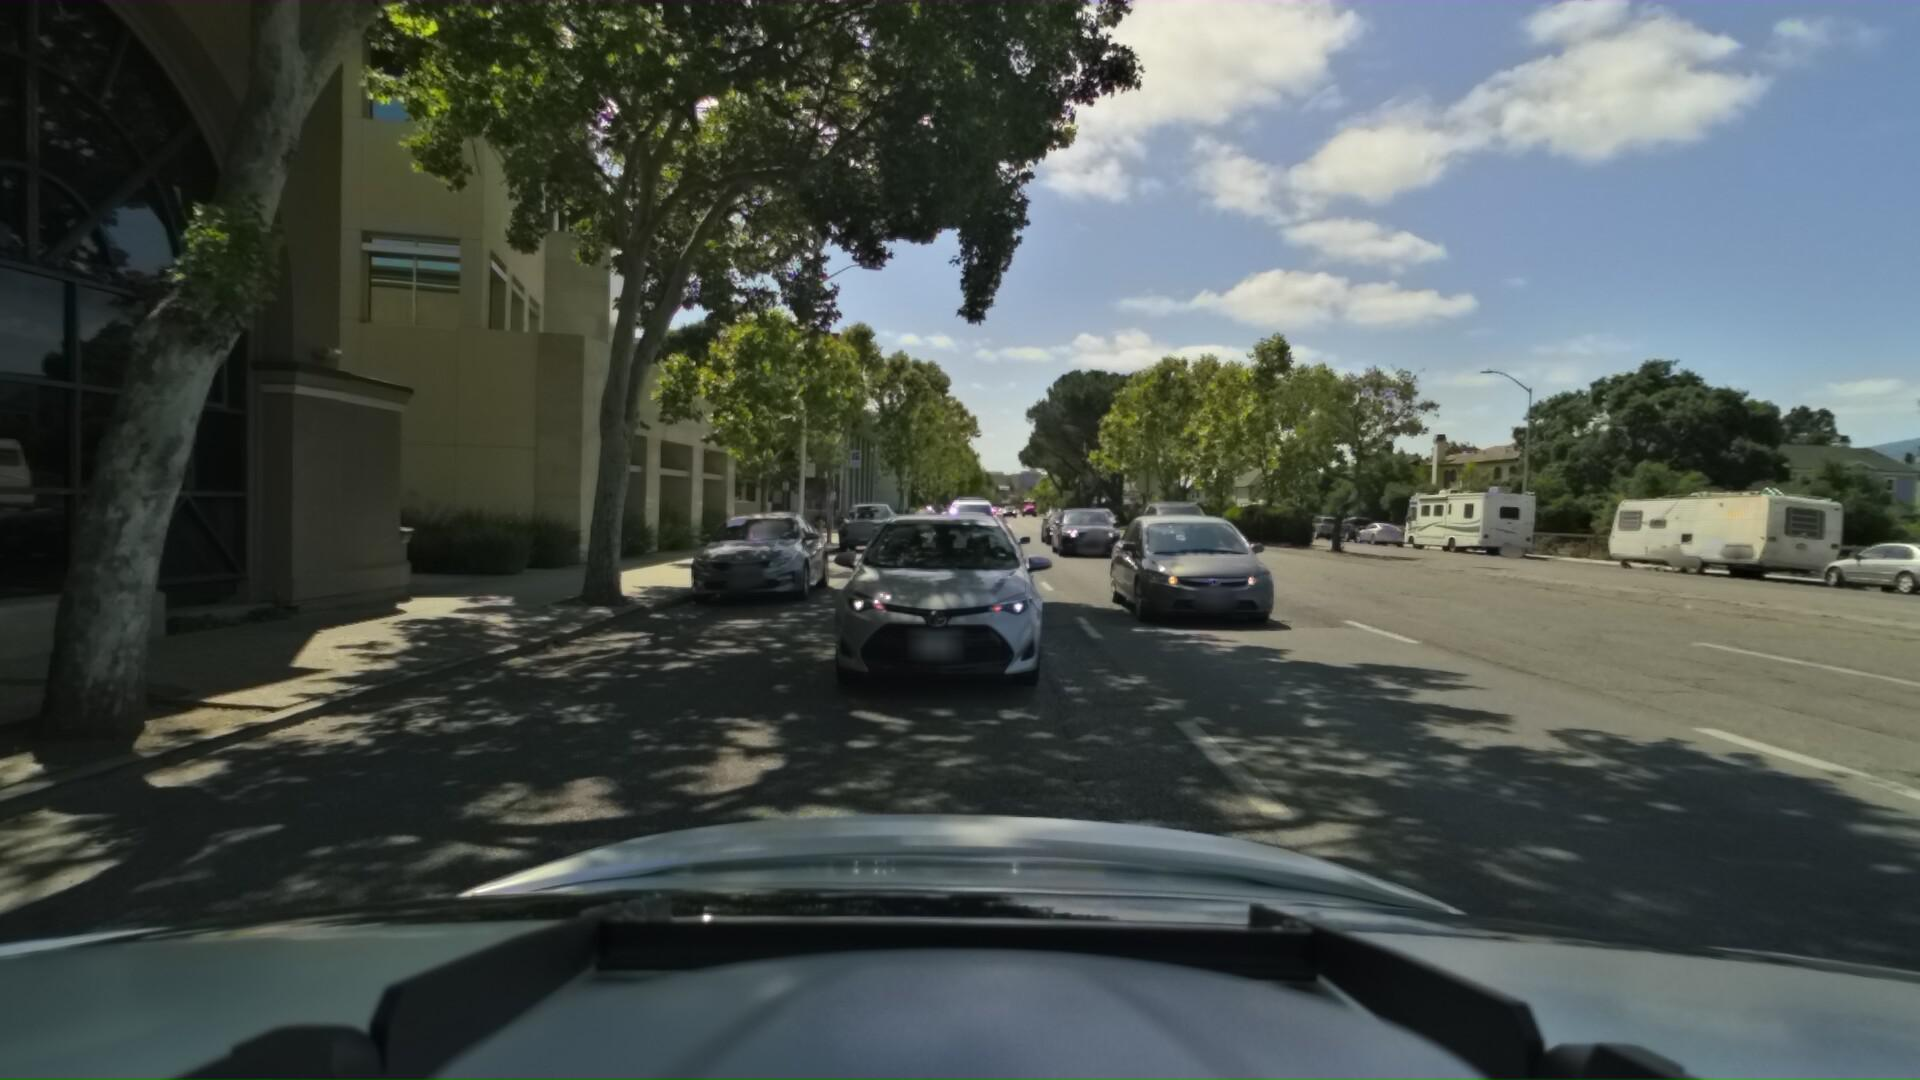car: (814, 500, 1059, 713), (1095, 504, 1261, 626), (687, 502, 833, 607), (919, 497, 1027, 599), (1797, 529, 1920, 599), (1127, 487, 1205, 541), (1040, 500, 1117, 553), (924, 500, 990, 560), (835, 496, 902, 550), (938, 484, 1001, 531), (1033, 502, 1085, 545), (1323, 504, 1379, 541), (1348, 512, 1407, 545), (1076, 501, 1118, 531), (1298, 505, 1338, 535), (906, 502, 939, 525)
other_vehicle: (1593, 475, 1851, 582), (1394, 473, 1539, 560)
